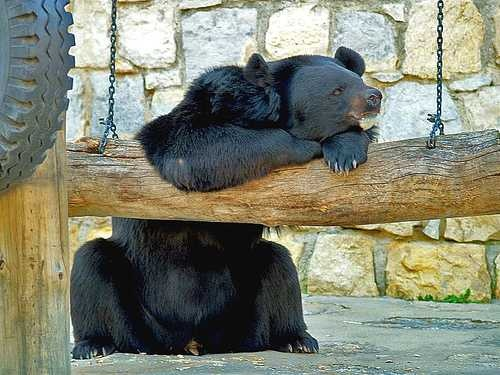bear: (260, 30, 388, 158)
